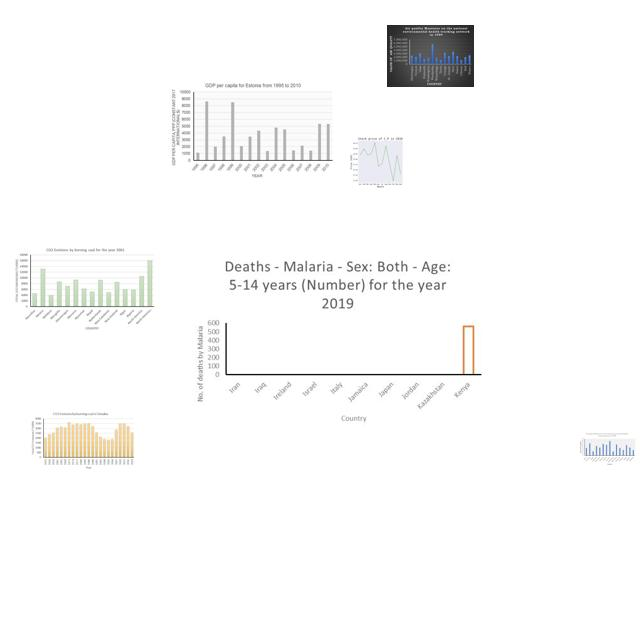Graph: (190, 255, 484, 430), (170, 80, 336, 179), (14, 247, 156, 331), (30, 410, 135, 470), (387, 25, 474, 87), (343, 134, 416, 189), (578, 432, 636, 466)
